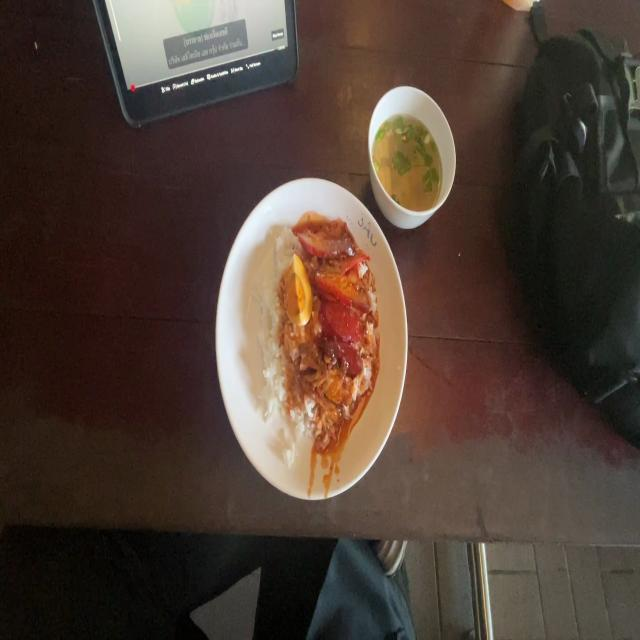01boiled_egg: (284, 261, 310, 321)
01chainese_sausage: (321, 298, 367, 369)
01crispy_pork: (314, 373, 350, 428)
01red_pork: (306, 234, 366, 296)
01red_pork_and_crispy_pork: (255, 223, 378, 446)
01rice: (253, 263, 285, 420), (285, 344, 302, 453), (276, 227, 299, 265)
